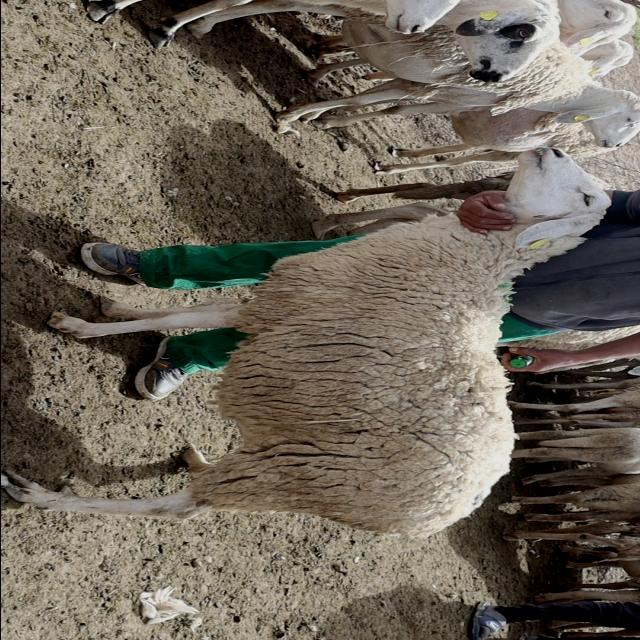Score_3: (1, 148, 609, 538)
